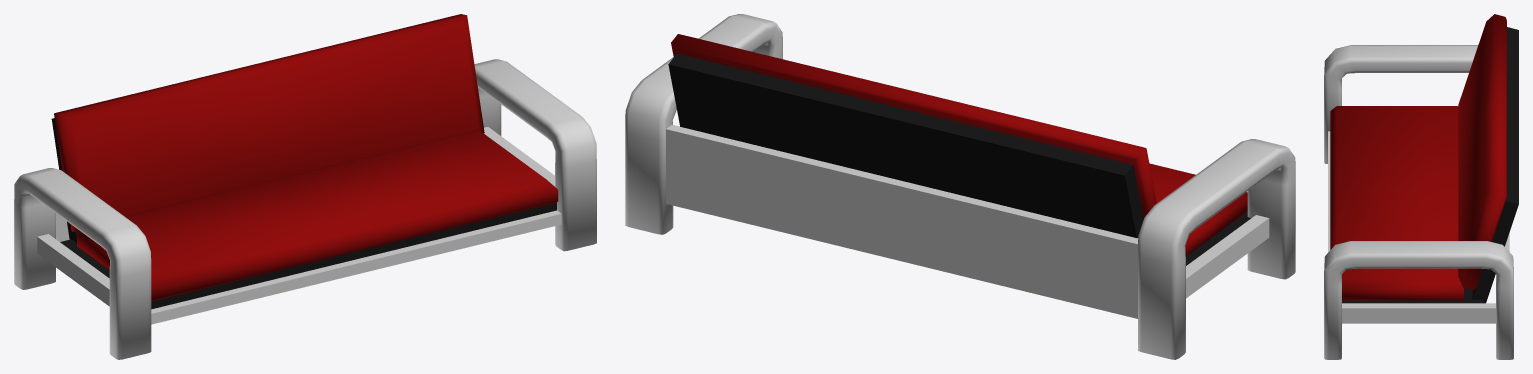
The model's file is couch.fbx.
3 views of the same model, side by side, from view 1: azimuth 30°, elevation 25°; view 2: azimuth 150°, elevation 25°; view 3: azimuth 270°, elevation 25° (orthographic). The views are drawn at different scales.
Visible parts, largest first — view 1: cusions, legs, cusion_supports; view 2: legs, cusion_supports, cusions; view 3: cusions, legs, cusion_supports.
Part boxes in pixels (<box>): cusions: <box>54,14,558,300</box>; legs: <box>14,59,596,359</box>; cusion_supports: <box>51,118,557,309</box>; legs: <box>625,14,1295,359</box>; cusion_supports: <box>668,53,1250,265</box>; cusions: <box>671,34,1247,256</box>; cusions: <box>1330,14,1506,300</box>; legs: <box>1324,45,1513,359</box>; cusion_supports: <box>1342,27,1518,303</box>.
Size of the model in its own units: 1199 by 401 by 468.
